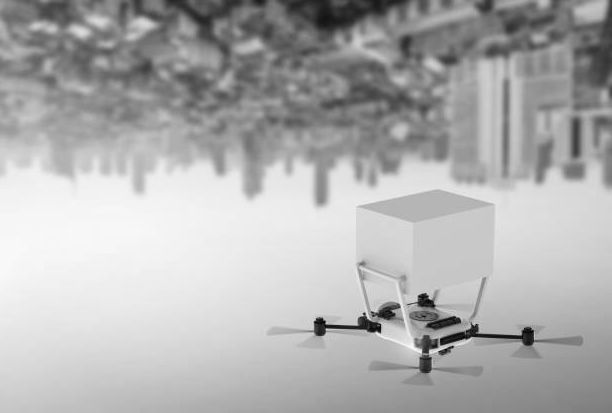Drone: (264, 291, 585, 389)
